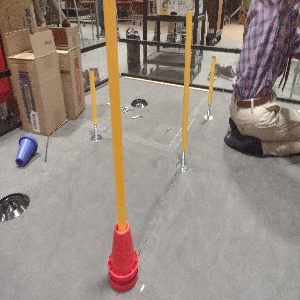Blue_1: (10, 135, 37, 170)
Red_2: (103, 219, 139, 290)
